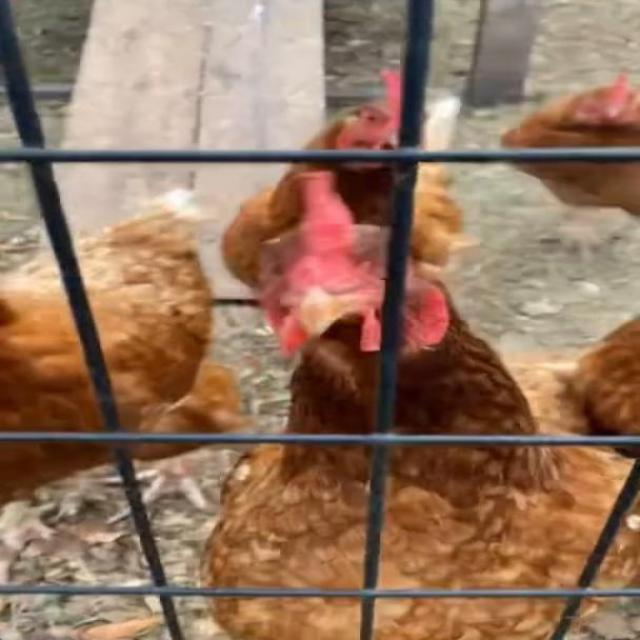Chicken: (199, 169, 640, 640), (0, 188, 245, 555), (223, 69, 463, 298), (497, 73, 640, 221), (565, 313, 640, 451)
